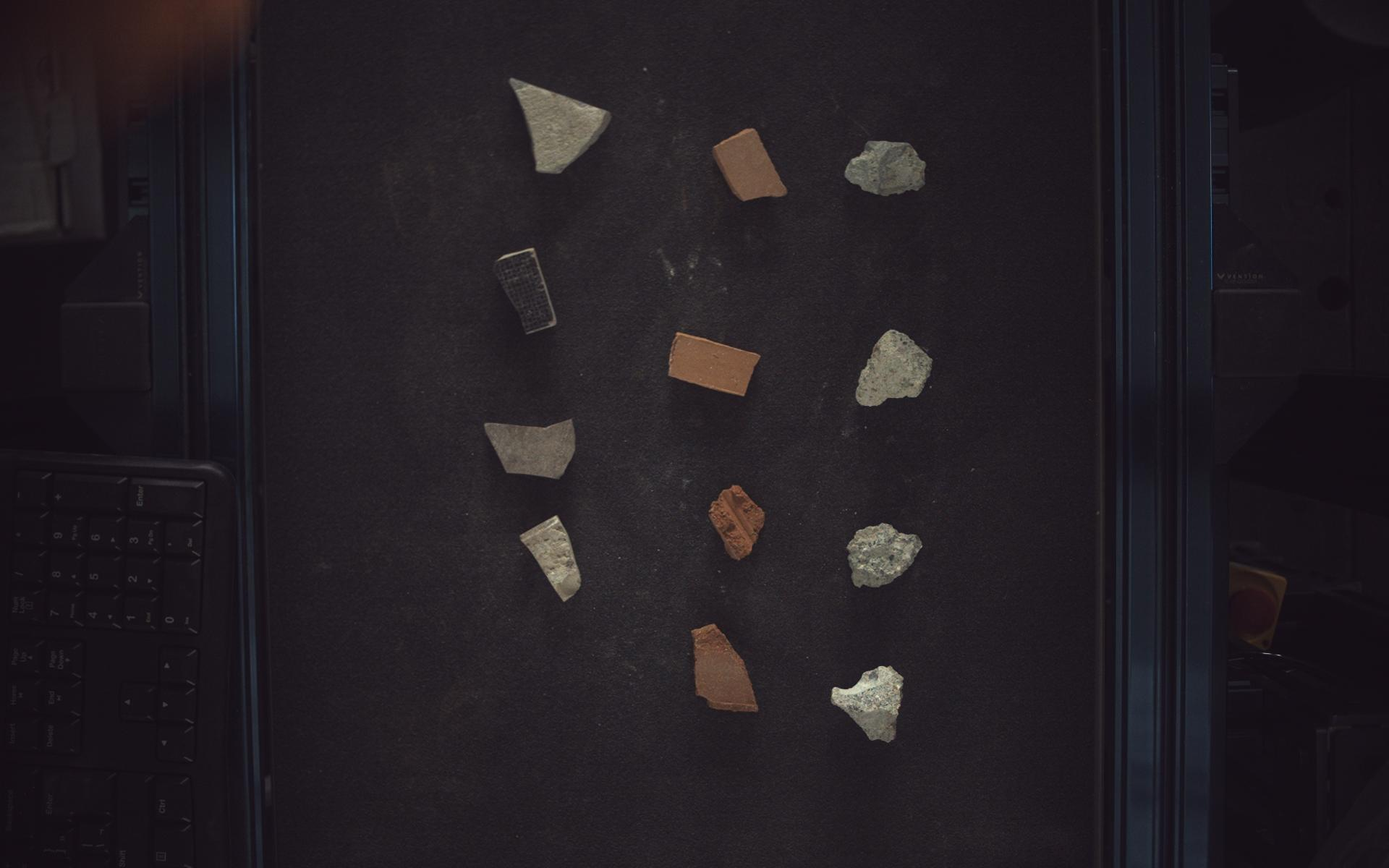brick: (694, 624, 760, 713), (671, 332, 761, 396), (714, 127, 789, 200), (710, 485, 766, 561)
concrete: (857, 330, 934, 407), (833, 667, 906, 744), (849, 524, 925, 588), (846, 140, 927, 195)
tile: (510, 77, 612, 173), (494, 247, 557, 334), (485, 420, 576, 479), (521, 516, 582, 601)
